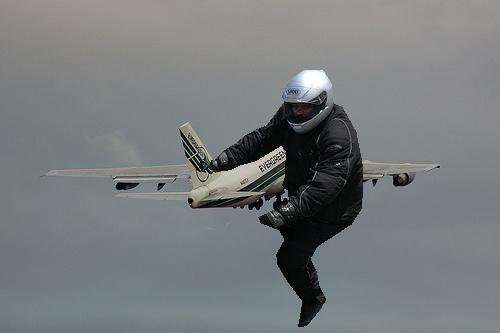tampered: (200, 71, 363, 327)
